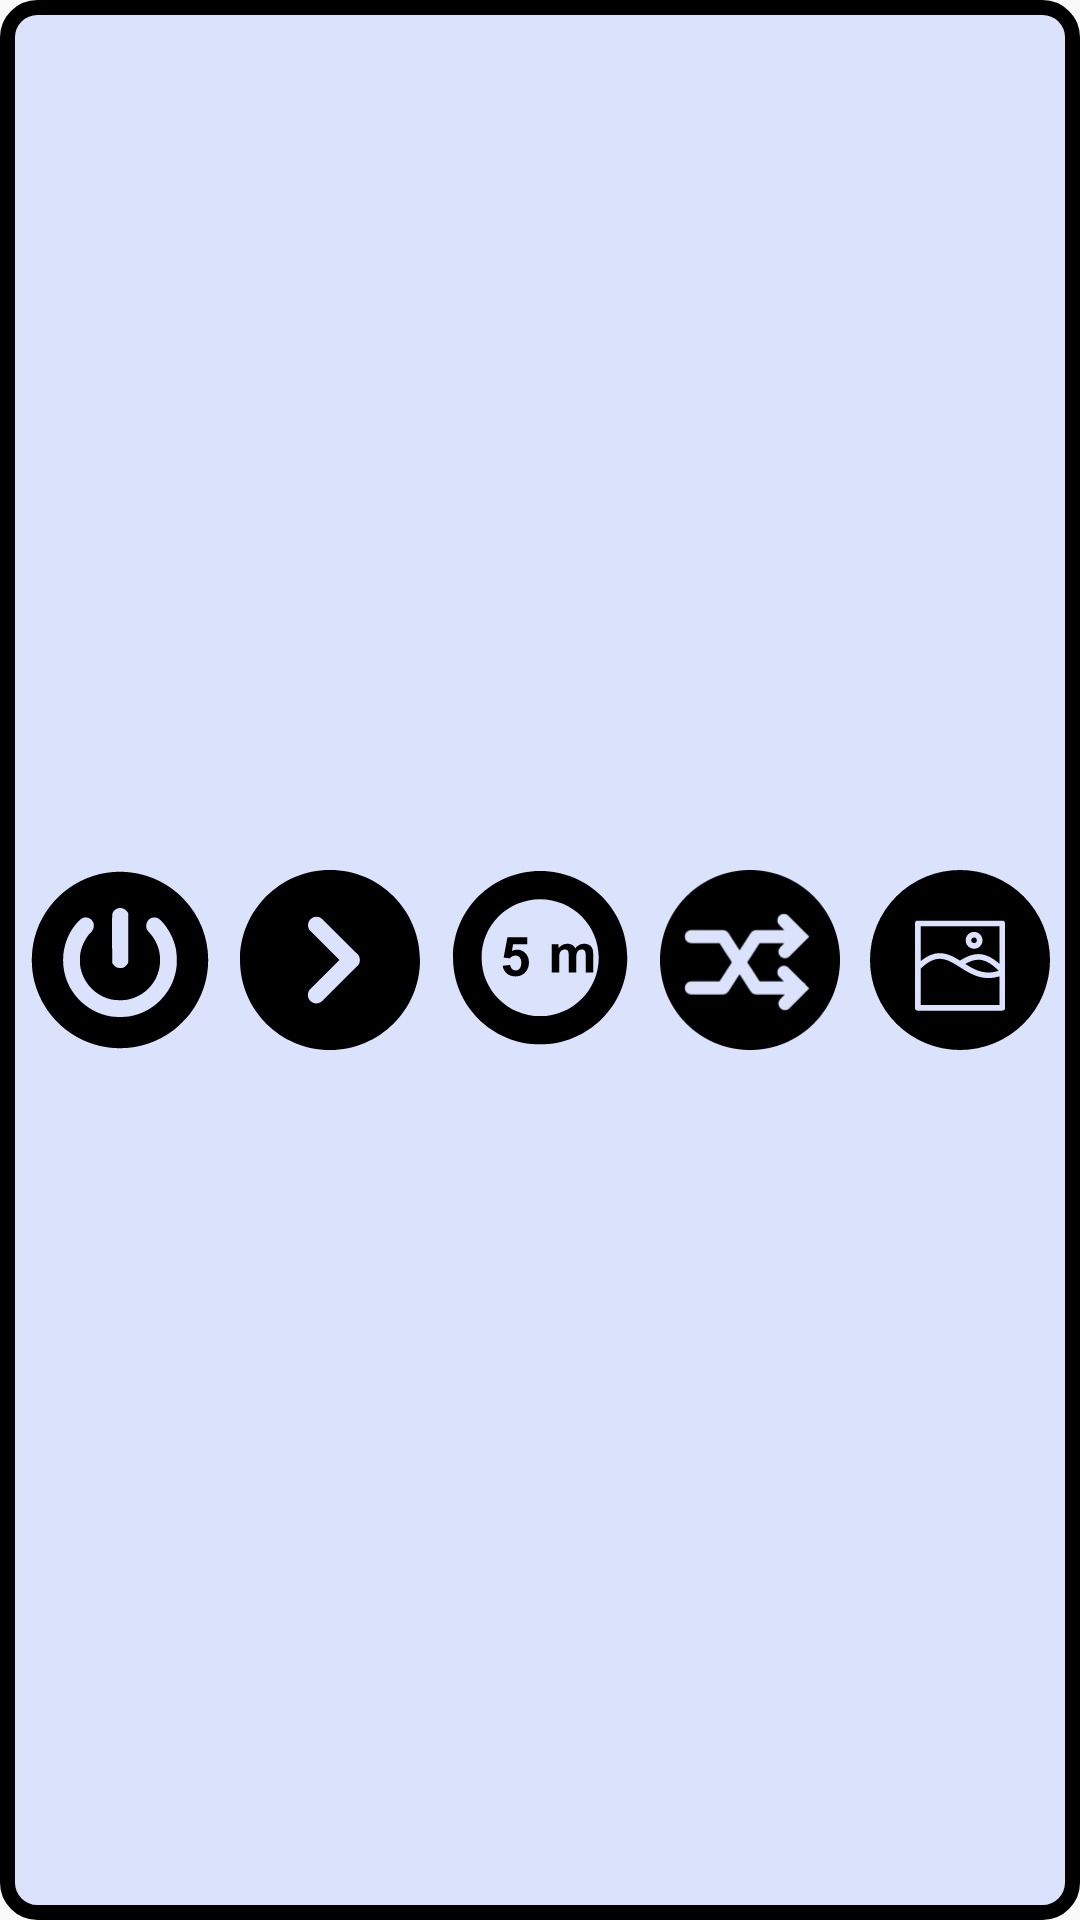

Locate icon controls on the screen. Image size 1080 × 1920, boxes as bbox(x1, y1, x2, y2).
widget gallery: bbox(870, 870, 1050, 1050)
widget next: bbox(240, 870, 420, 1050)
widget power: bbox(31, 871, 209, 1049)
widget shuffle: bbox(660, 870, 840, 1050)
